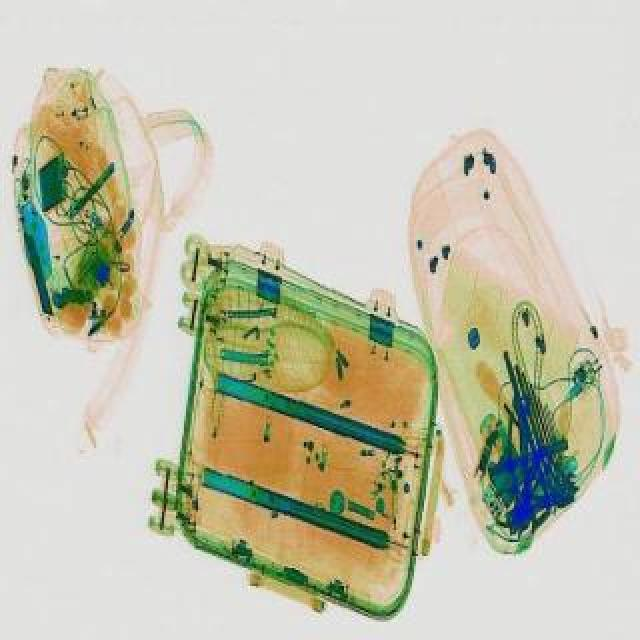scissors: (512, 394, 536, 486)
wrench: (492, 480, 580, 524)
